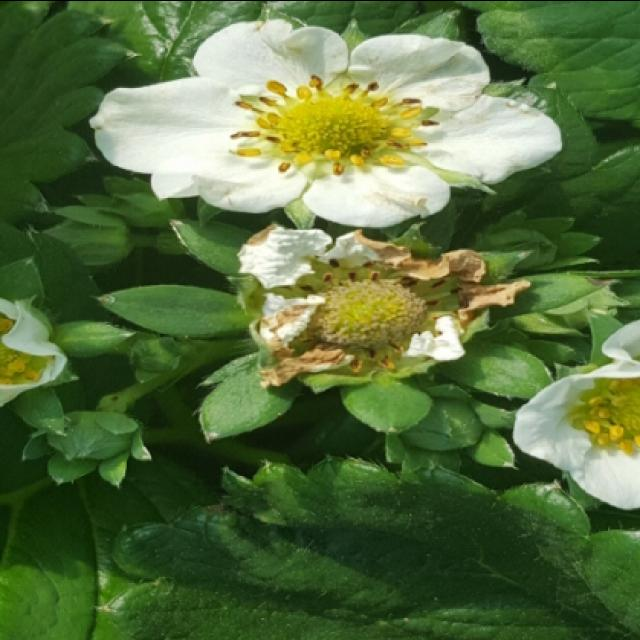Blossom Blight: (223, 68, 443, 179), (277, 257, 470, 374)
